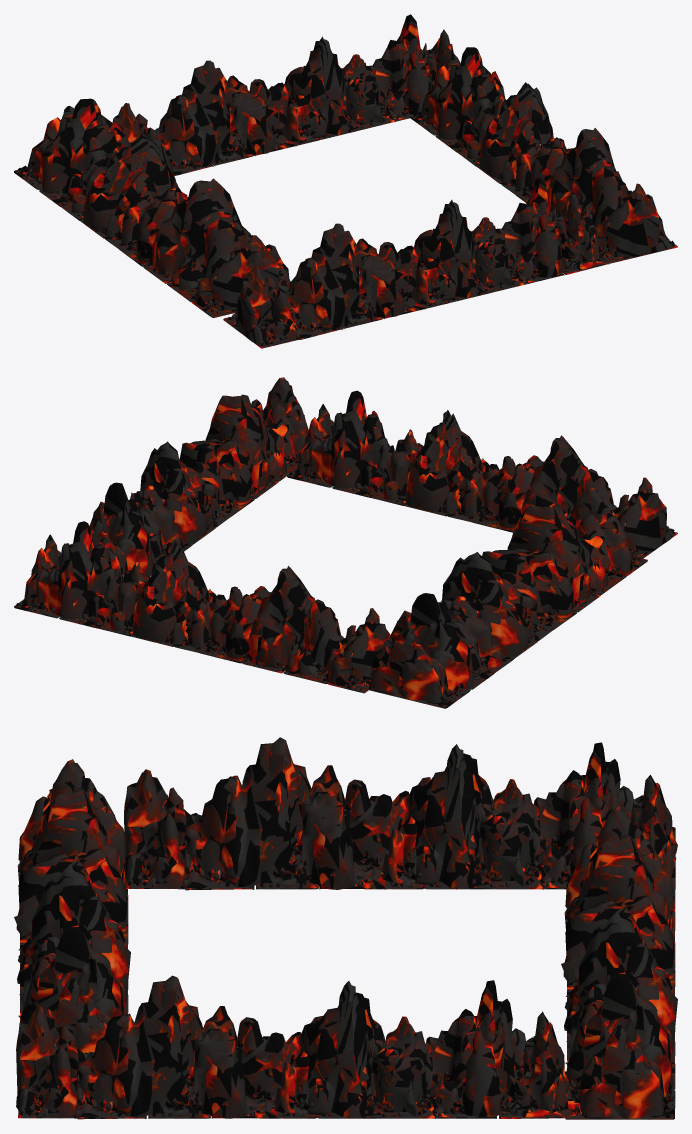
File: mountains.glb
The picture shows the model from 3 angles, top to bottom: view 1: azimuth 30°, elevation 25°; view 2: azimuth 150°, elevation 25°; view 3: azimuth 270°, elevation 25°; orthographic projection. The views are drawn at different scales.
Parts seen in each view (by area): view 1: mountain.003, mountain.001, mountain.002, mountain.004; view 2: mountain.001, mountain.002, mountain.003, mountain.004; view 3: mountain.001, mountain.004, mountain.002, mountain.003.
Boxes of the visible parts, x1=… form: mountain.003: x1=223, y1=177, x2=608, y2=348; mountain.001: x1=14, y1=98, x2=290, y2=317; mountain.002: x1=112, y1=14, x2=453, y2=175; mountain.004: x1=410, y1=47, x2=677, y2=263; mountain.001: x1=352, y1=488, x2=647, y2=708; mountain.002: x1=14, y1=521, x2=391, y2=693; mountain.003: x1=287, y1=390, x2=677, y2=558; mountain.004: x1=89, y1=377, x2=308, y2=581; mountain.001: x1=124, y1=737, x2=677, y2=890; mountain.004: x1=16, y1=975, x2=569, y2=1119; mountain.002: x1=561, y1=806, x2=677, y2=1119; mountain.003: x1=14, y1=759, x2=130, y2=1052.
Size of the model in its own units: 27.13 by 5.38 by 26.34.
Materials: 2 (2 with a texture image).
